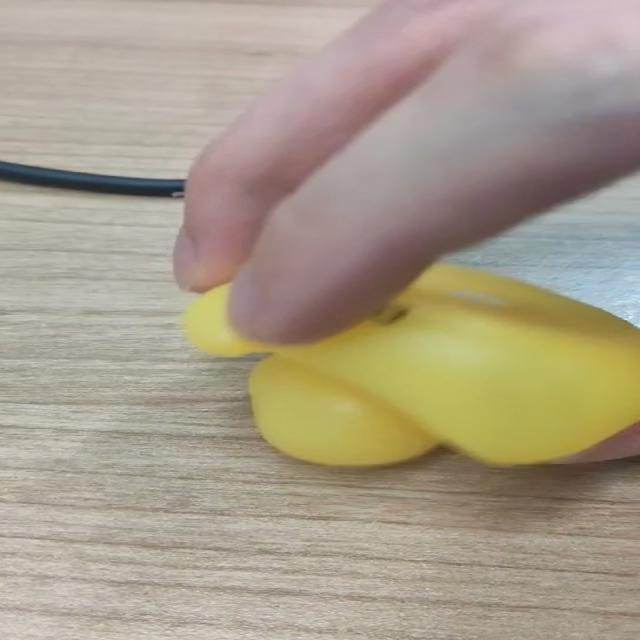rubber-duck: (183, 263, 638, 464)
